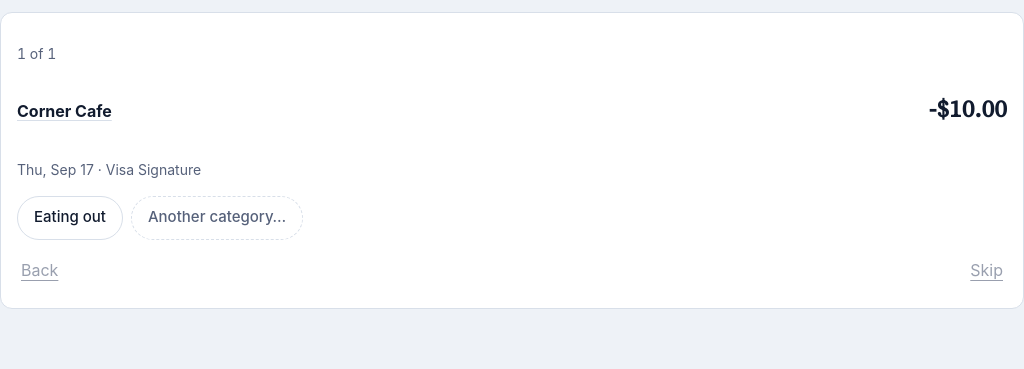
Test: the Categorize queue › stays on the card and says why when a pick was not saved
The image size is (1024, 369).
Click the button "Eating out".
click(70, 218)  # box [17, 196, 123, 240]
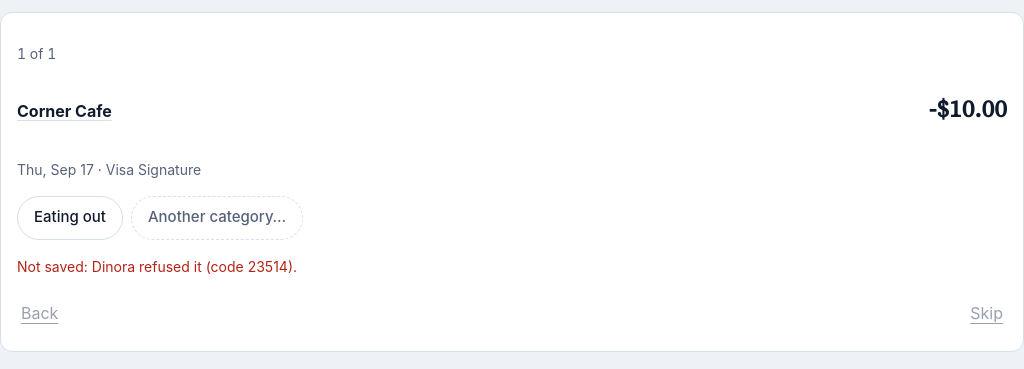
Expected: the element "Corner Cafe" shows "1 of 1", [17, 45, 56, 62]
Expected: the message reads "Not saved: Dinora refused it (code 23514).", [17, 258, 297, 274]
